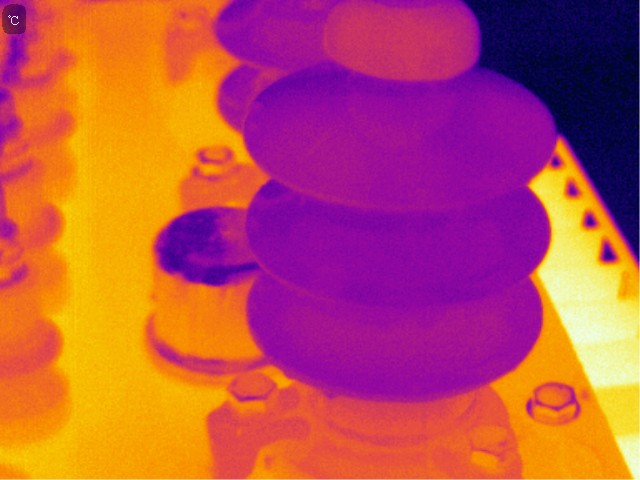Oil: (323, 8, 487, 82), (281, 126, 369, 204), (319, 382, 342, 402)
